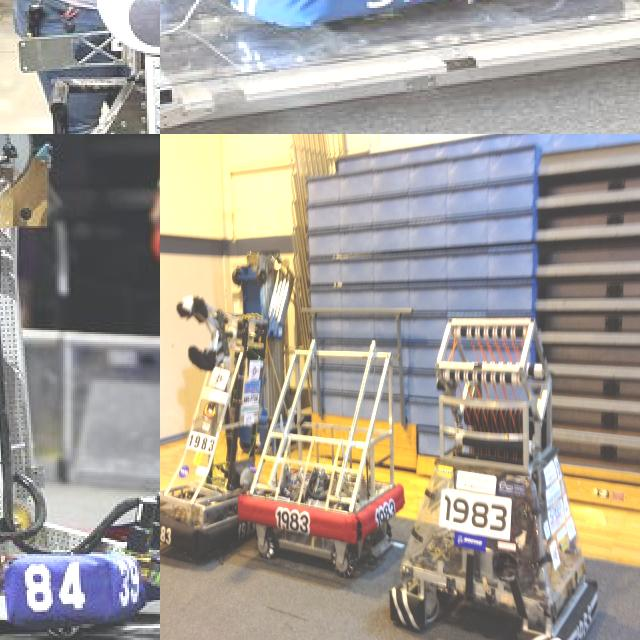FRC-Robots: (0, 134, 160, 640), (386, 303, 616, 640), (160, 239, 301, 561), (236, 334, 418, 576), (7, 0, 160, 134)
